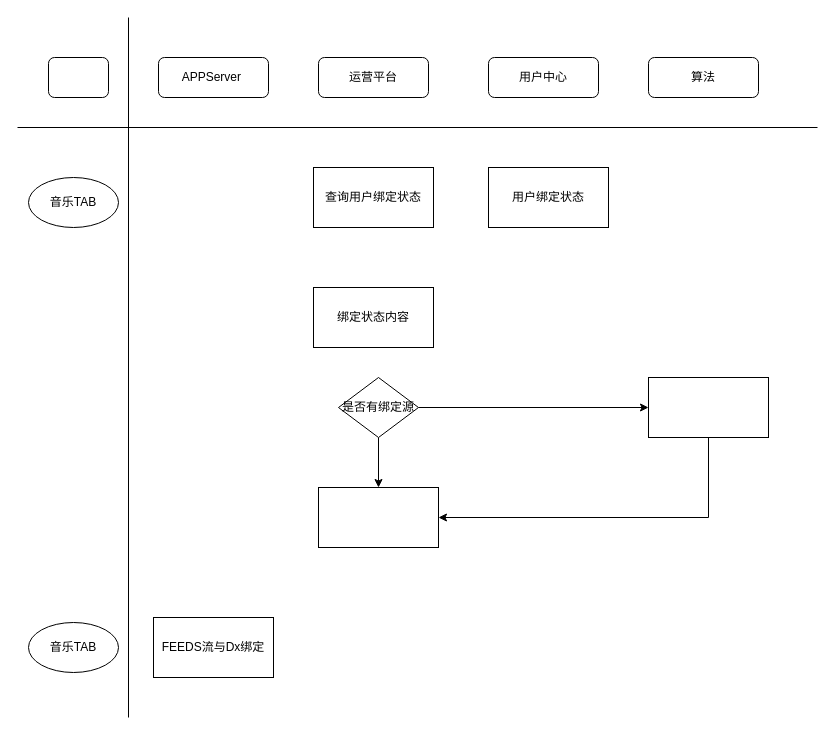
Some shapes in this 836 by 736 pixel diagram are drawn without their labels. Here are the shapes that lost their labels. From the top down, the box of each, then its label:
(48, 56, 108, 98): APP
(648, 376, 768, 438): 音乐TAB推荐内容
(318, 486, 438, 548): 音乐TAB所有内容
